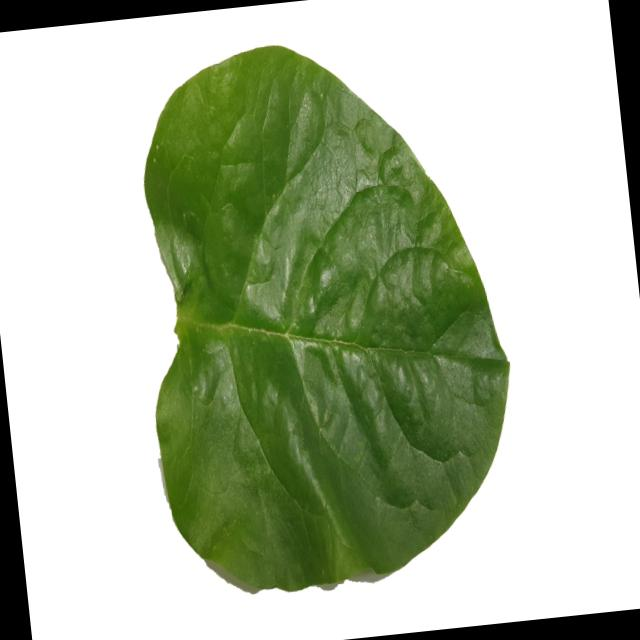Medicinal-Basale: (118, 22, 529, 602)
